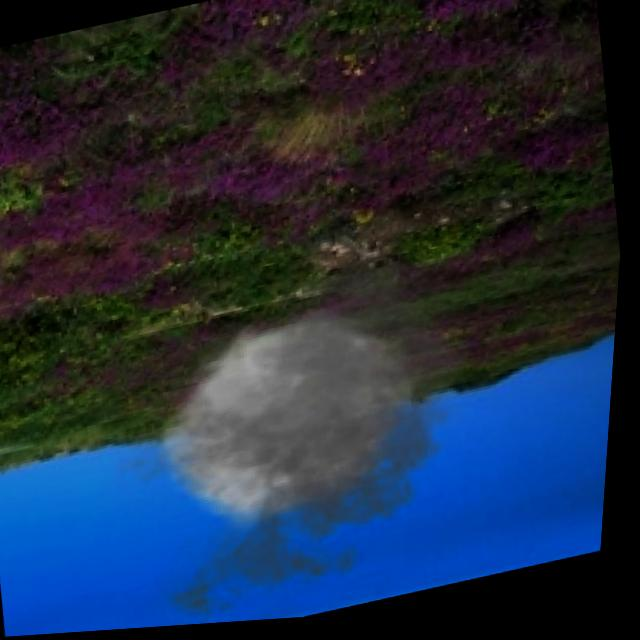no_helmet: (77, 230, 515, 632)
